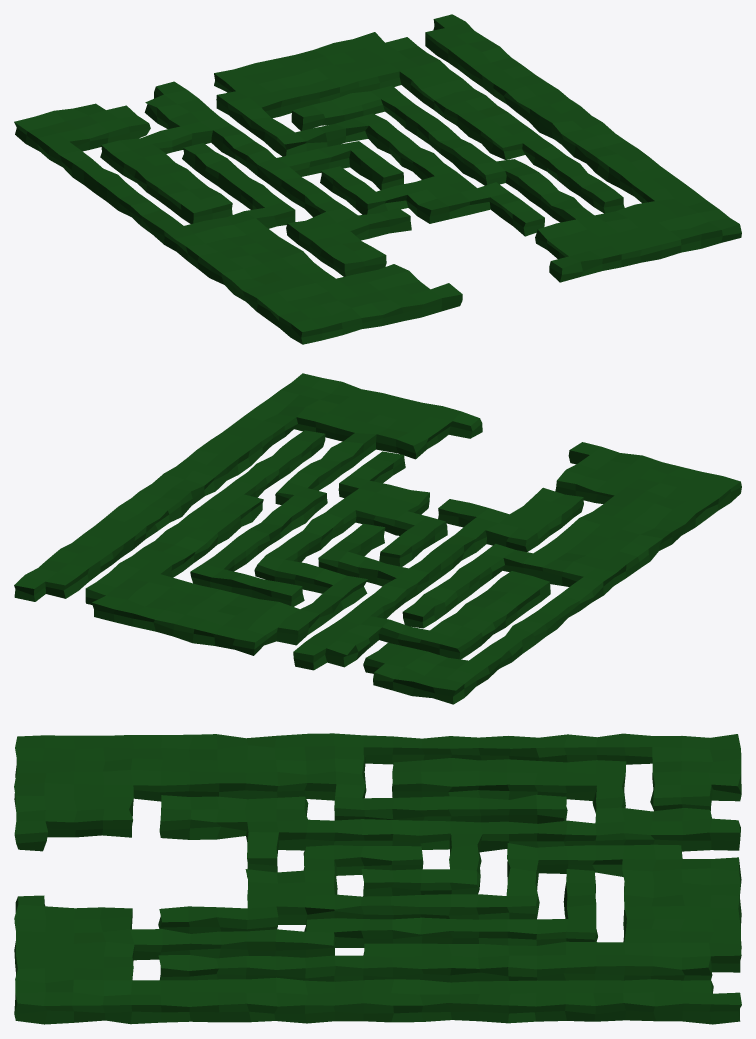
Rendered from Map.glb.
3 views of the same model, one above another, from view 1: azimuth 30°, elevation 25°; view 2: azimuth 150°, elevation 25°; view 3: azimuth 270°, elevation 25° (orthographic). The views are drawn at different scales.
Parts seen in each view (by area): view 1: Grid; view 2: Grid; view 3: Grid.
Part boxes in pixels (x1,y1,x2,y2): Grid: [14, 14, 741, 344]; Grid: [14, 373, 741, 704]; Grid: [14, 733, 741, 1024].
Bounding box in the file's own units: 44.44 × 1.69 × 50.28.
